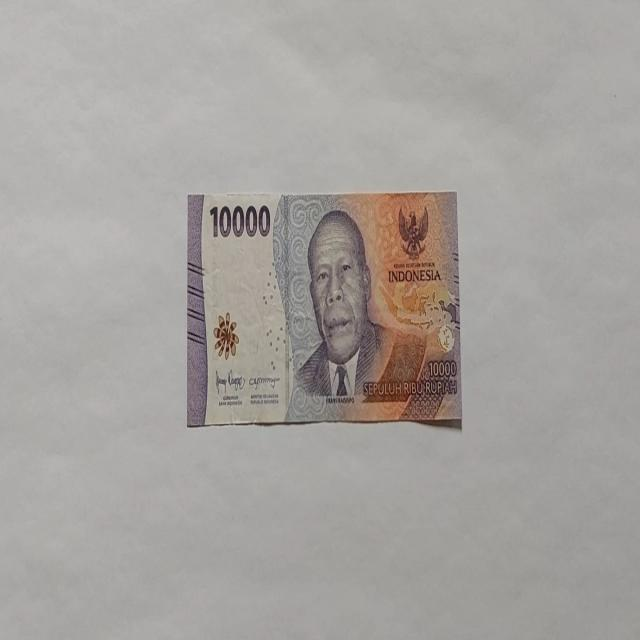sepuluh ribu rupiah: (186, 190, 462, 428), (286, 207, 426, 420)
